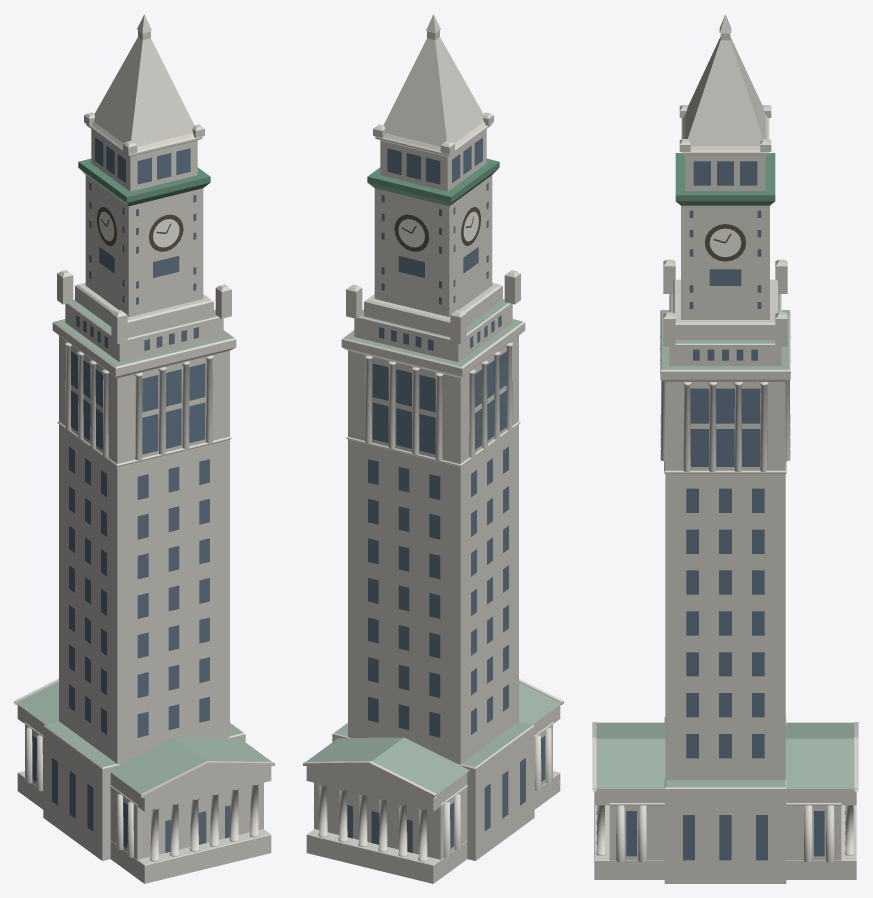
The model's file is bos-custom-house-tower.glb.
3 views of the same model, side by side, from view 1: azimuth 30°, elevation 25°; view 2: azimuth 150°, elevation 25°; view 3: azimuth 270°, elevation 25° (orthographic). The views are drawn at different scales.
Parts seen in each view (by area): view 1: Custom House Tower; view 2: Custom House Tower; view 3: Custom House Tower.
Boxes of the visible parts, x1,y1,x2,y2 form: Custom House Tower: (14,14,274,883); Custom House Tower: (303,14,563,883); Custom House Tower: (592,14,858,883).
Bounding box in the file's own units: 28.1 × 151 × 43.7.
